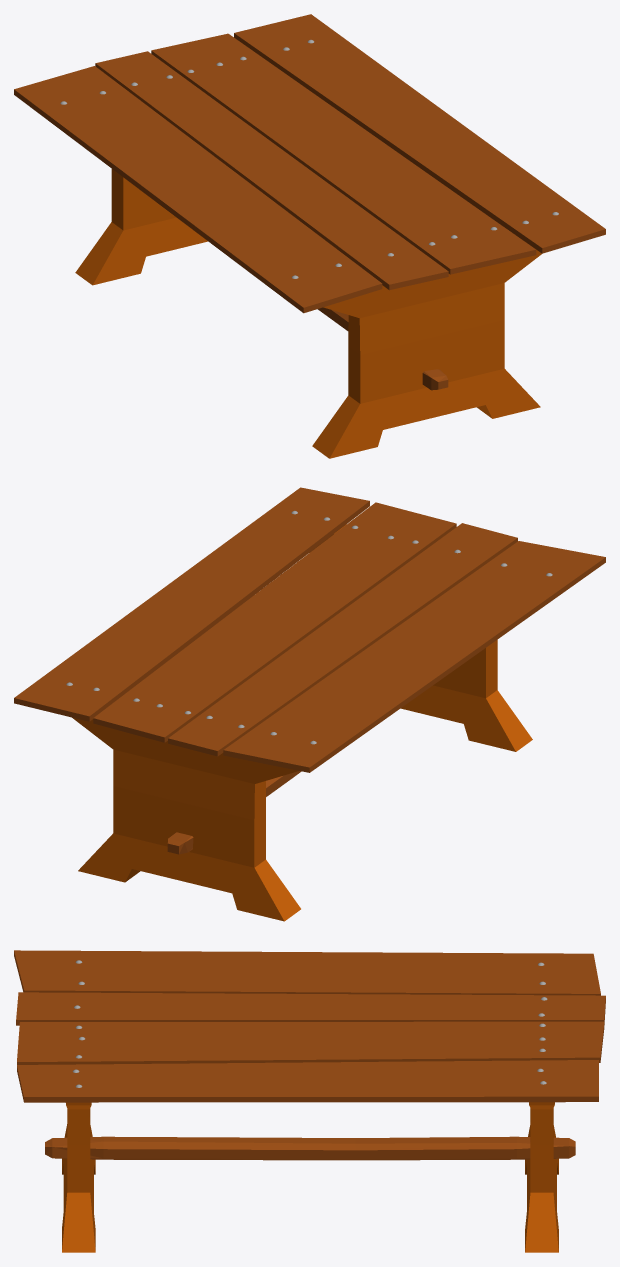
Rendered from Table1.fbx.
3 views of the same model, one above another, from view 1: azimuth 30°, elevation 25°; view 2: azimuth 150°, elevation 25°; view 3: azimuth 270°, elevation 25° (orthographic). The views are drawn at different scales.
Visible parts, largest first — view 1: Table1; view 2: Table1; view 3: Table1.
Part boxes in pixels (<box>): Table1: <box>14,14,605,458</box>; Table1: <box>14,487,605,921</box>; Table1: <box>14,950,605,1252</box>.
Bounding box in the file's own units: 604 × 343 × 1030.
